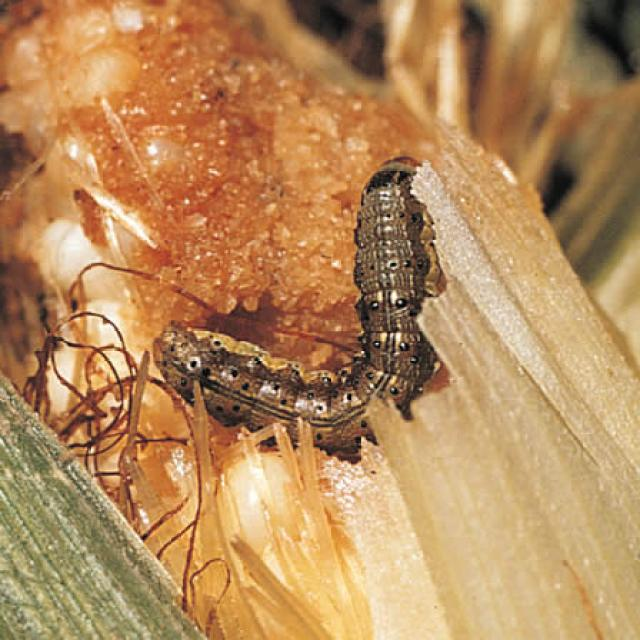worm: (151, 155, 448, 464)
